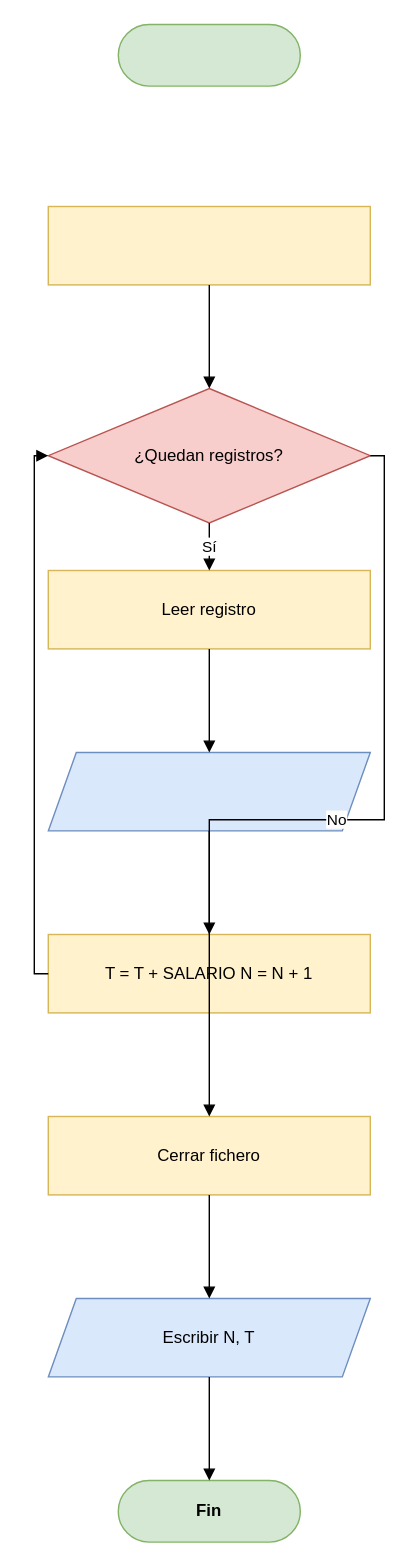
Some shapes in this 420 by 1567 pixel diagram are drawn without their labels. Here are the shapes that lost their labels. From the top down, the box of each, then its label:
(117, 23, 300, 86): Inicio
(47, 205, 370, 285): Abrir fichero T = 0 N = 0
(47, 751, 370, 831): Escribir CODIGO, NOMBRE, SALARIO
